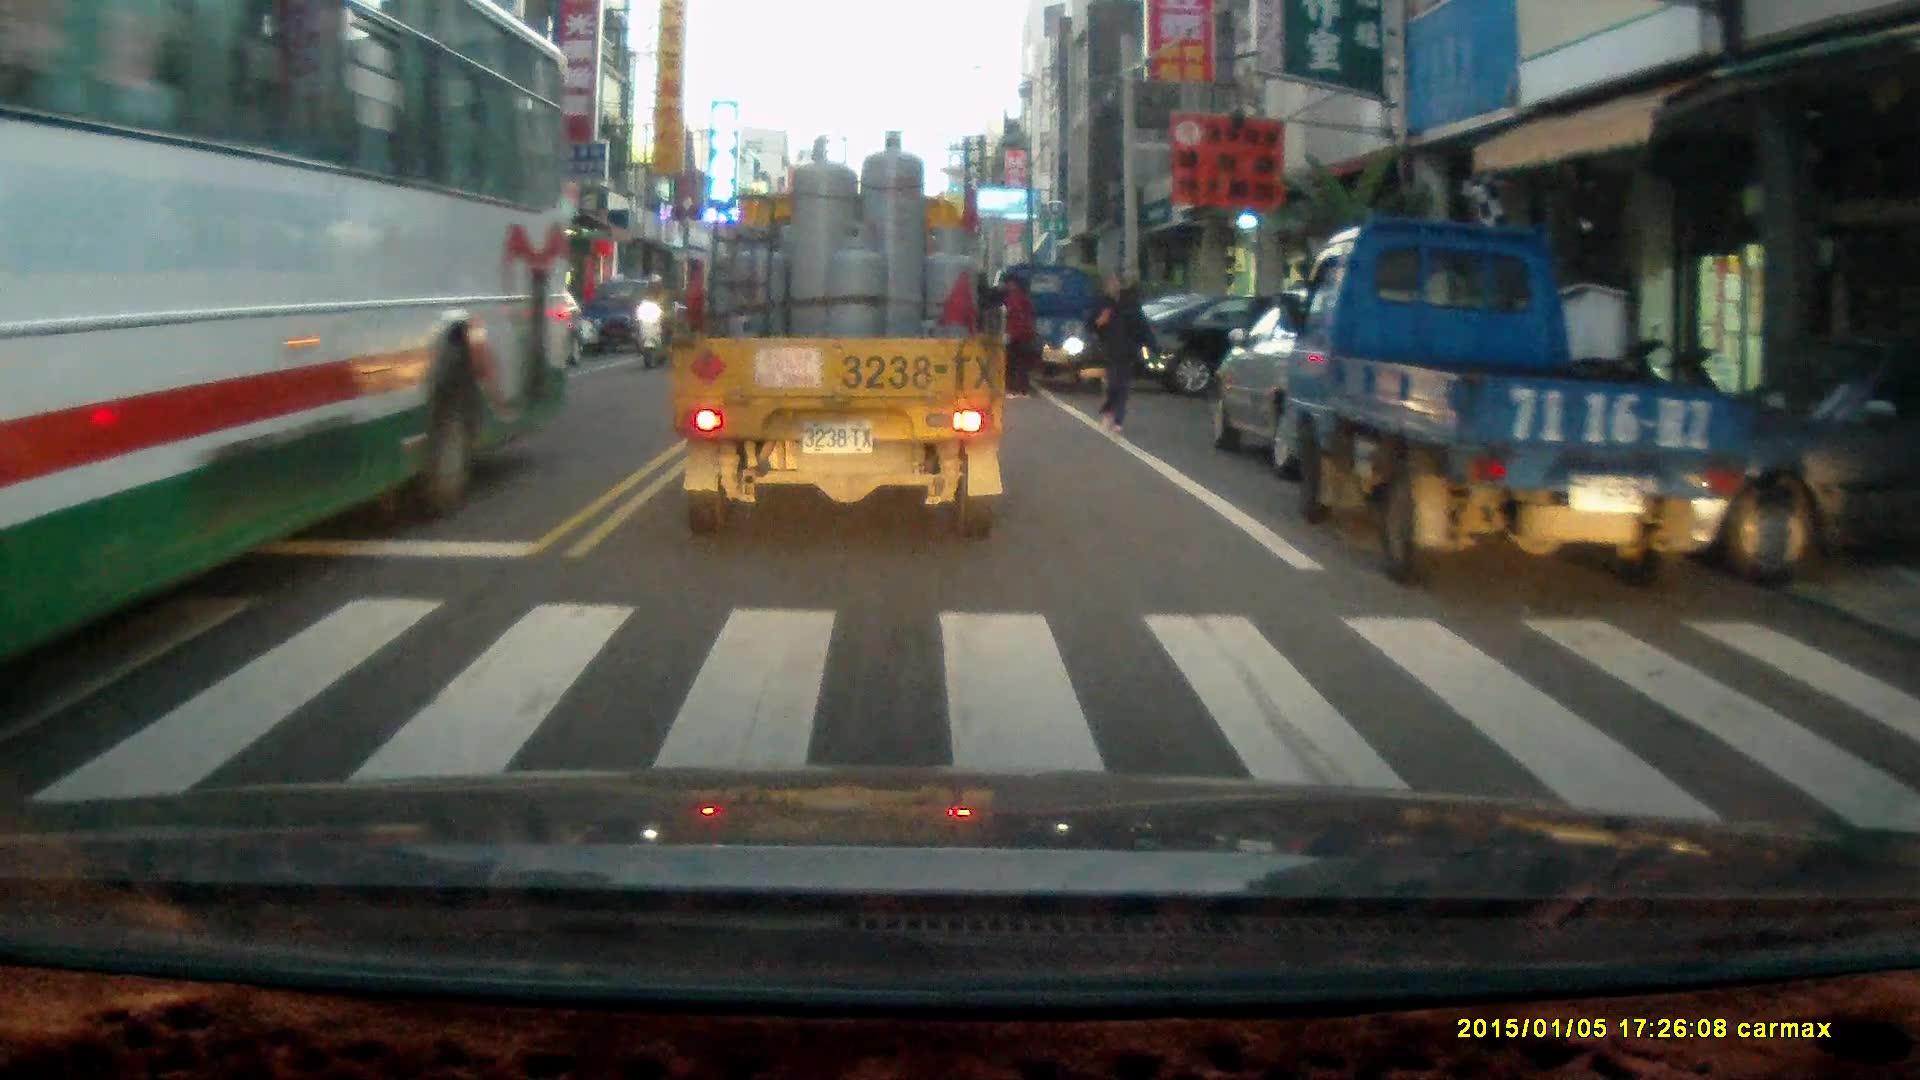pedestrian: (1085, 271, 1155, 432), (999, 271, 1035, 398)
rider: (635, 270, 676, 372)
vehicle: (1, 7, 580, 676), (1276, 213, 1744, 591), (671, 127, 1013, 541), (1208, 280, 1497, 484), (1132, 283, 1379, 401), (990, 261, 1119, 393), (464, 281, 589, 374), (578, 276, 669, 359)
